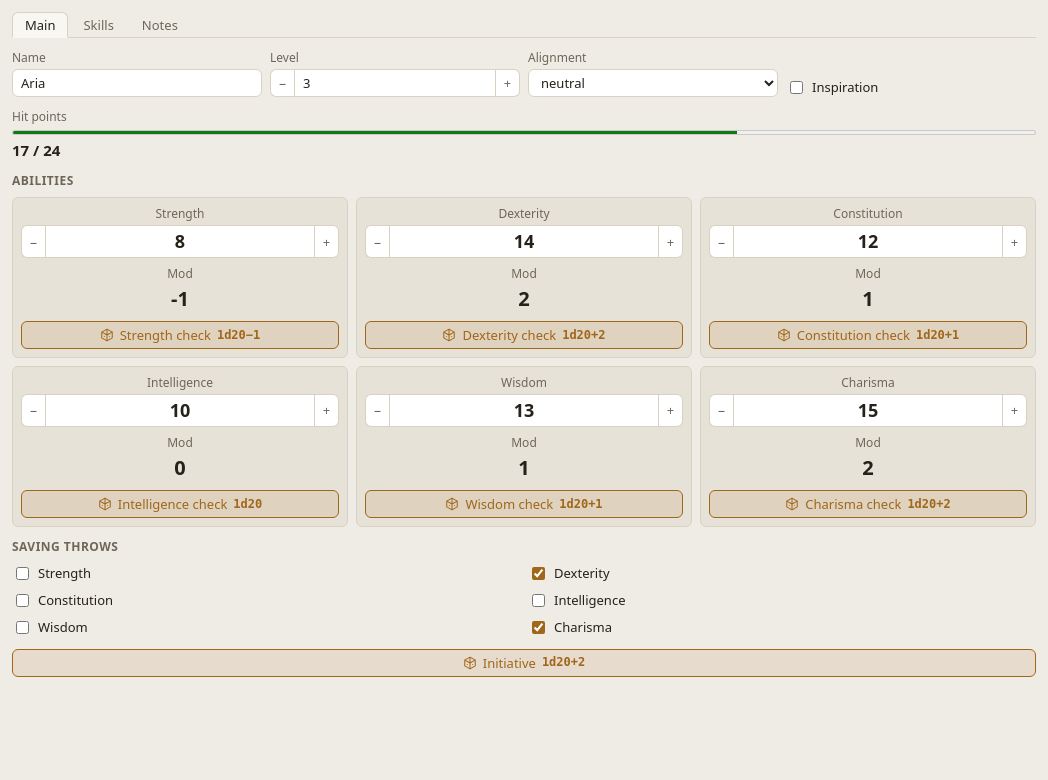
CharacterSheet › renders every node type of the d20 sheet
Expected: the element "Abilities" is shown, x1=12 y1=173 x2=1036 y2=527
Expected: the field labelled "Strength" holds "8", x1=45 y1=225 x2=315 y2=258
Click the tab "Skills" at x=99, y=25, box x1=70 y1=12 x2=127 y2=38
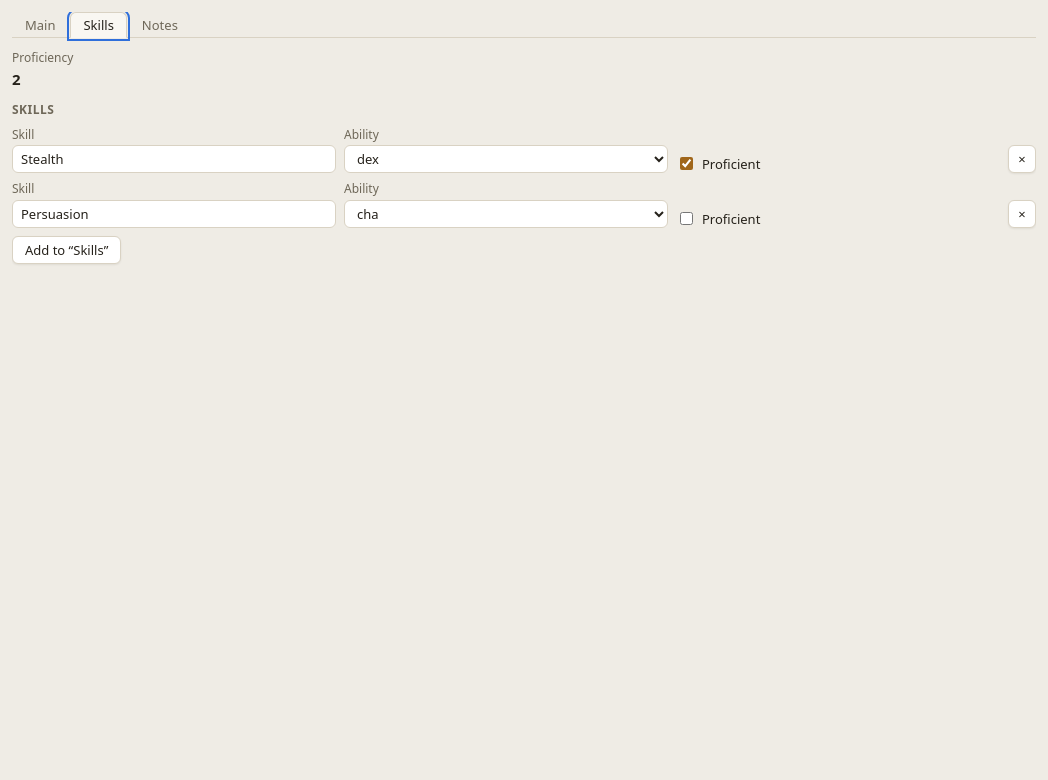
Expected: the 1st field labelled "Skill" holds "Stealth", x1=12 y1=145 x2=336 y2=173
Expected: the 1st checkbox labelled "Proficient" is checked, x1=680 y1=157 x2=693 y2=170
Expected: the element named "Skills, row 2" is shown, x1=12 y1=181 x2=1036 y2=228
Note: text + textarea
Click the tab "Notes" at x=160, y=25, box x1=129 y1=12 x2=191 y2=38
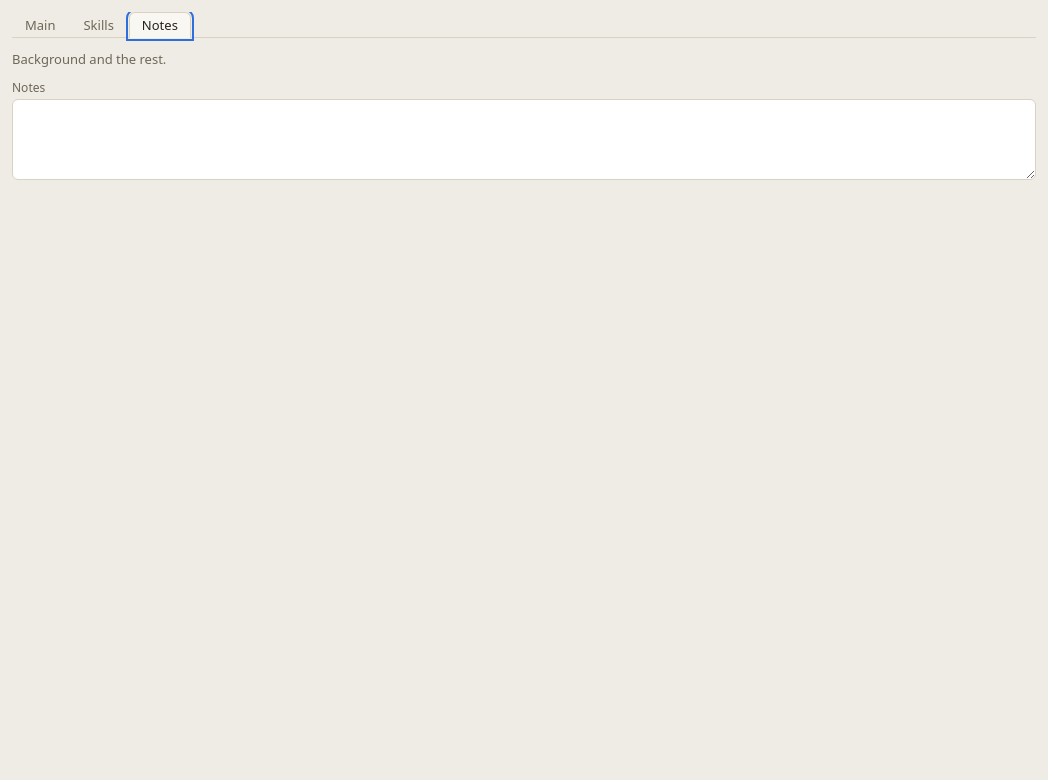
Expected: the text "Background and the rest." is shown, x1=12 y1=50 x2=166 y2=68
